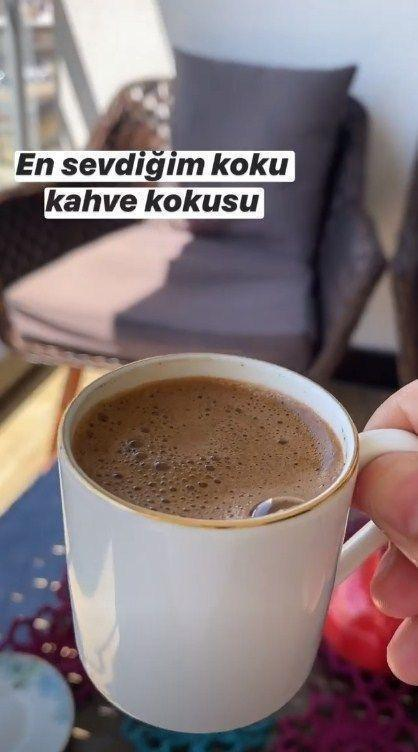cup-handle: (58, 350, 417, 737)
